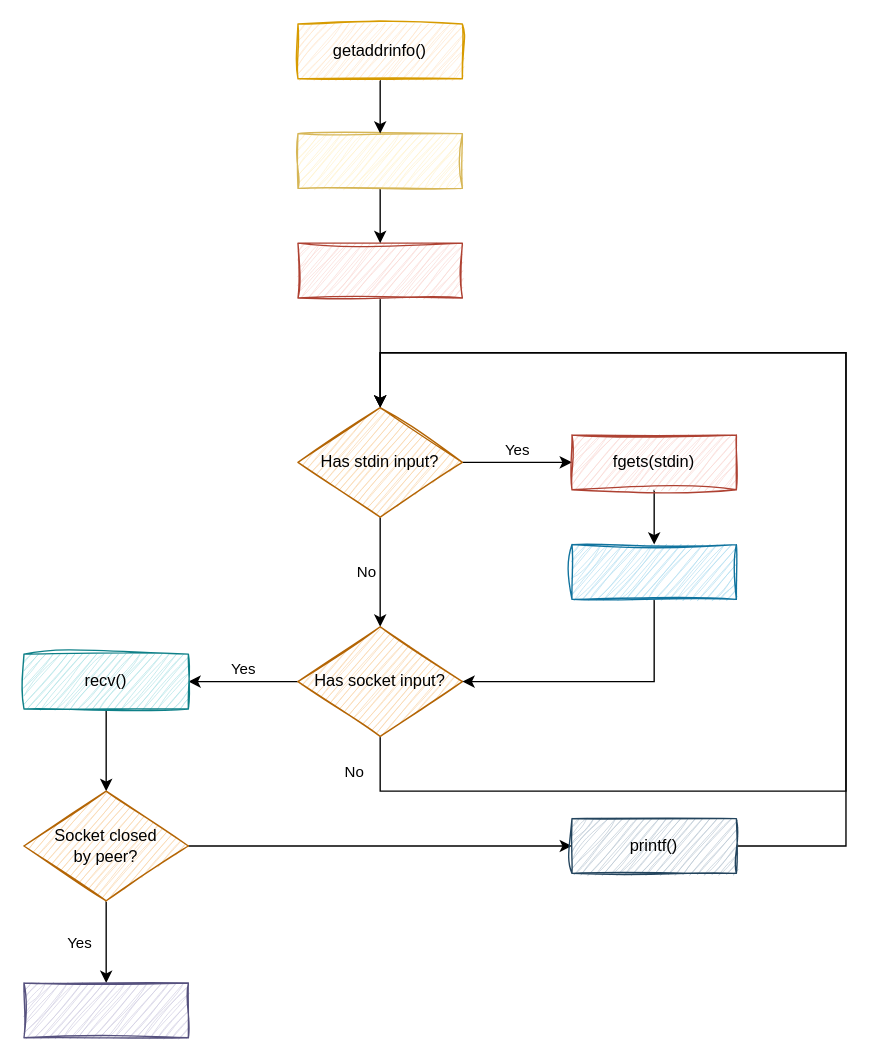
This 881x1062 diagram has some shape labels left out. The centre of each missing label's shape, as x and y in pixels:
"close()" goes at point (105, 1010).
"connect()" goes at point (379, 270).
"send()" goes at point (653, 571).
"socket()" goes at point (379, 160).
